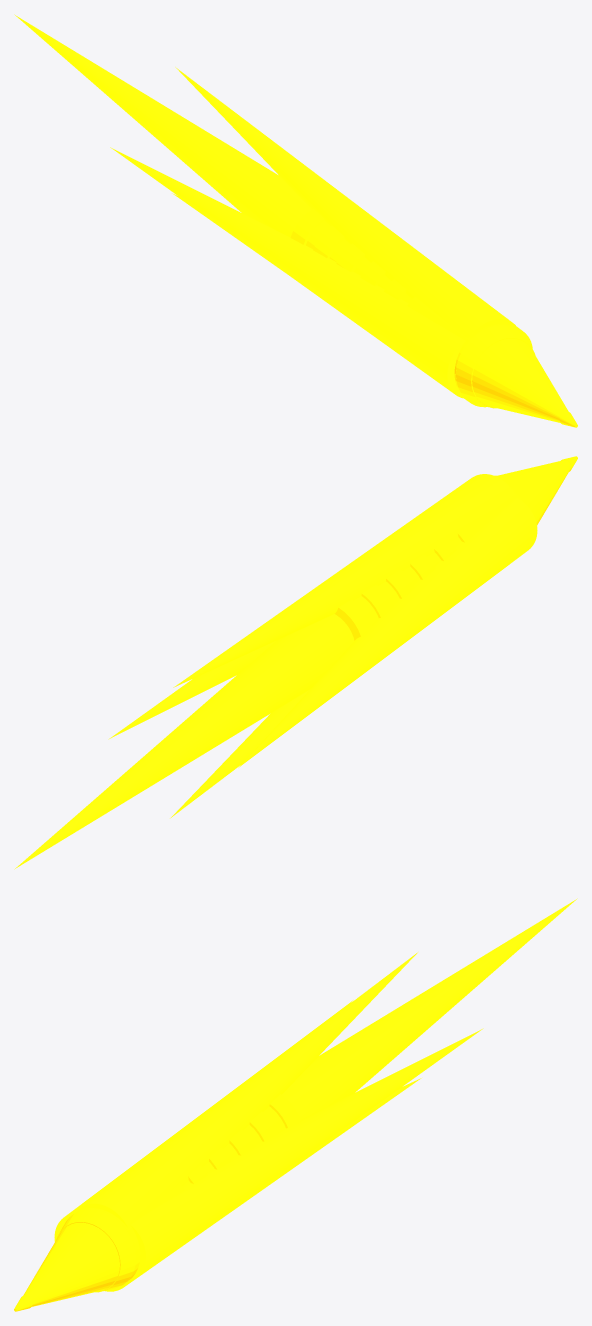
File: FCC Projectiles.fbx
The picture shows the model from 3 angles, top to bottom: view 1: azimuth 30°, elevation 25°; view 2: azimuth 150°, elevation 25°; view 3: azimuth 330°, elevation 25°; orthographic projection.
Visible parts, largest first — view 1: FlakBullet, AutoBullet; view 2: FlakBullet, AutoBullet; view 3: FlakBullet, AutoBullet.
Boxes of the visible parts, x1,y1,x2,y2 form: FlakBullet: (16,16,577,427); AutoBullet: (14,14,311,237); FlakBullet: (18,456,577,866); AutoBullet: (14,614,354,869); FlakBullet: (14,902,572,1311); AutoBullet: (282,899,576,1119).
Size of the model in its own units: 169 by 164 by 1297.
